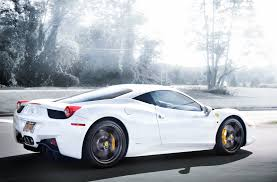car: (10, 81, 257, 168)
